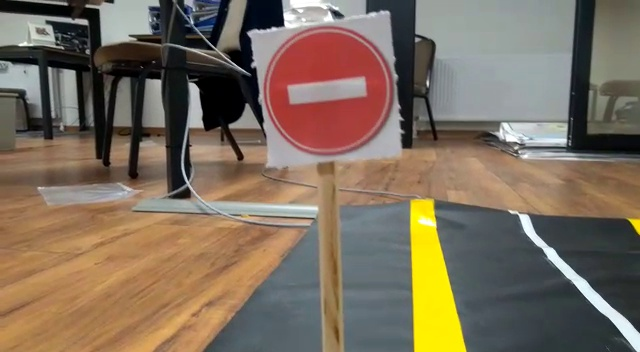girisi_olmayan_yol: (251, 22, 404, 160)
